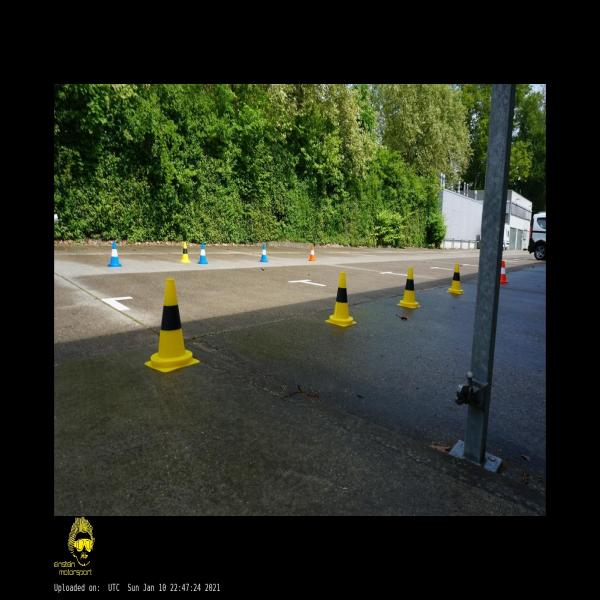blue_cone: (108, 241, 122, 267), (198, 243, 208, 264), (260, 244, 268, 262)
orange_cone: (500, 261, 508, 284), (309, 245, 316, 261)
yellow_cone: (144, 278, 200, 372), (325, 271, 357, 327), (397, 267, 421, 308), (448, 263, 464, 294), (180, 242, 191, 263)
